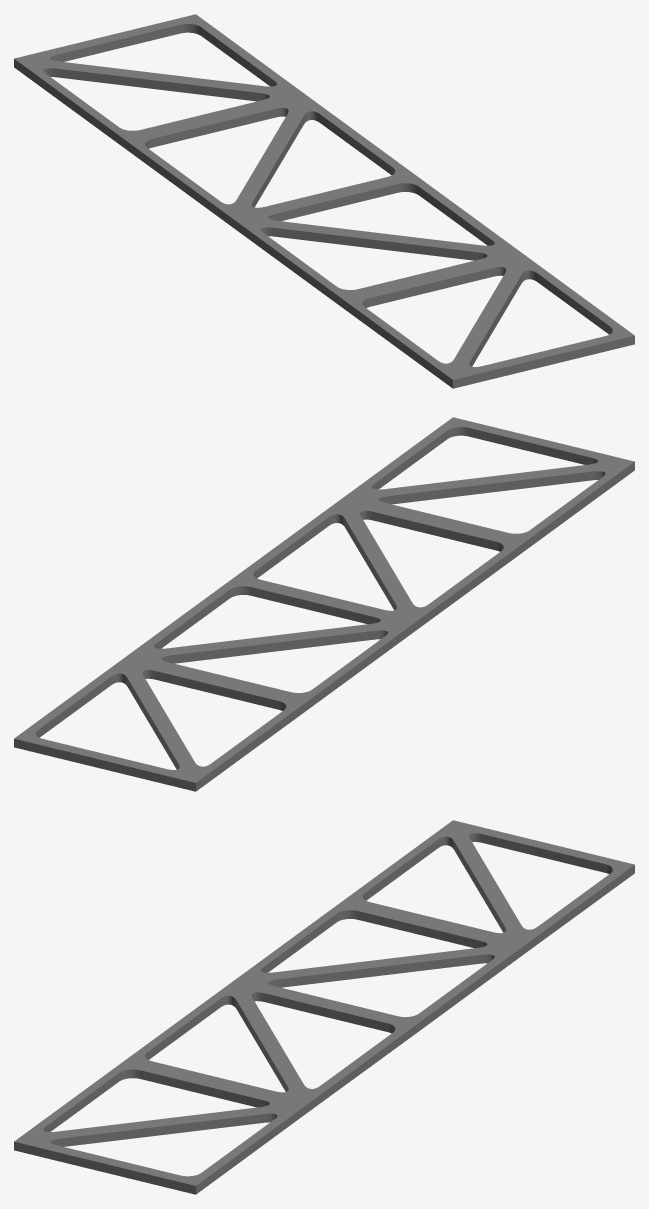
File: q-scifi-mod-column-metalsupport.glb
The picture shows the model from 3 angles, top to bottom: view 1: azimuth 30°, elevation 25°; view 2: azimuth 150°, elevation 25°; view 3: azimuth 330°, elevation 25°; orthographic projection.
Visible parts, largest first — view 1: Column_MetalSupport; view 2: Column_MetalSupport; view 3: Column_MetalSupport.
Boxes of the visible parts, x1,y1,x2,y2 form: Column_MetalSupport: (14, 14, 634, 388); Column_MetalSupport: (14, 417, 634, 791); Column_MetalSupport: (14, 820, 634, 1194).
Size of the model in its own units: 0.9566 by 0.044 by 4.
Materials: 2 (2 with a texture image).
